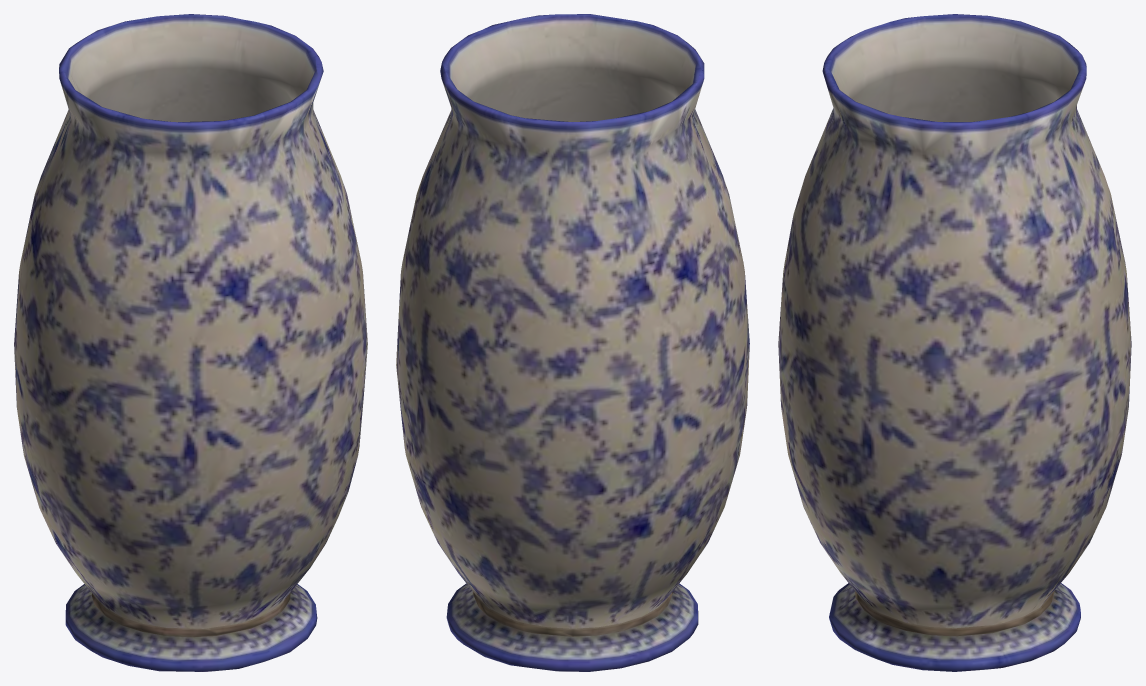
Rendered from antique_ceramic_vase_01.glb.
3 renders of one model, left to right at view 1: azimuth 30°, elevation 25°; view 2: azimuth 150°, elevation 25°; view 3: azimuth 270°, elevation 25°, orthographic.
Visible parts, largest first — view 1: antique_ceramic_vase_01; view 2: antique_ceramic_vase_01; view 3: antique_ceramic_vase_01.
Part boxes in pixels (<box>): antique_ceramic_vase_01: <box>14,14,367,671</box>; antique_ceramic_vase_01: <box>396,14,749,671</box>; antique_ceramic_vase_01: <box>778,14,1131,671</box>.
Size of the model in its own units: 0.2549 by 0.4396 by 0.255.
Materials: 1 (1 with a texture image).
